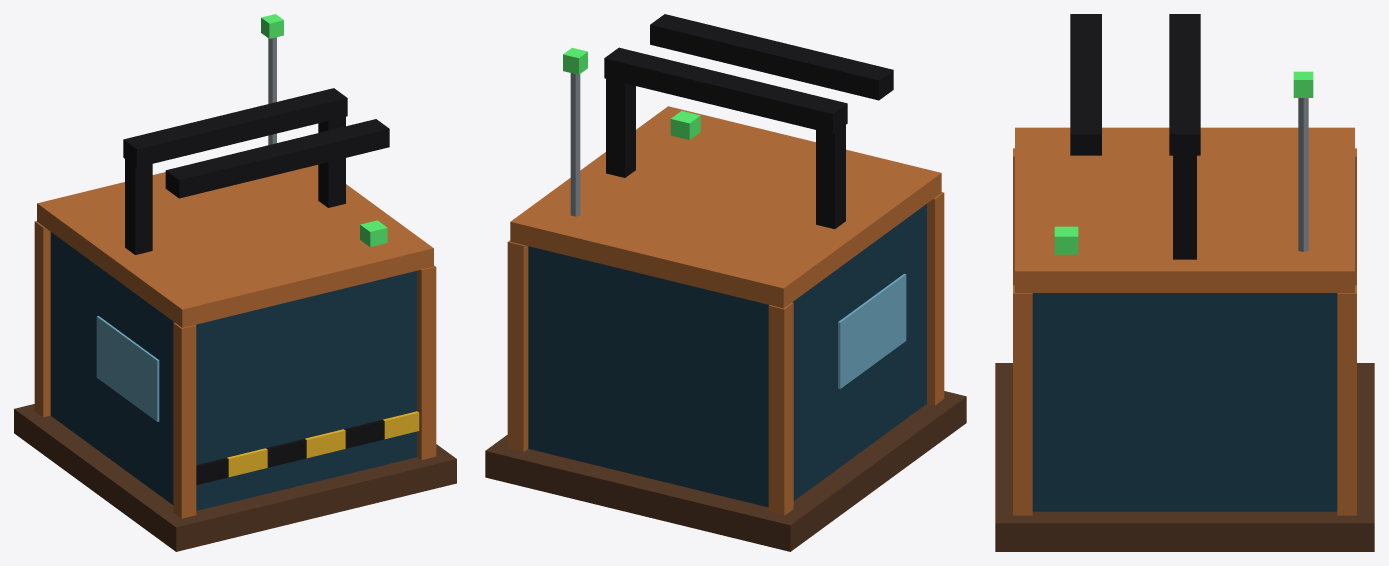
Rendered from assembler_2.obj.
3 renders of one model, left to right at view 1: azimuth 30°, elevation 25°; view 2: azimuth 150°, elevation 25°; view 3: azimuth 270°, elevation 25°, orthographic. The views are drawn at different scales.
Visible parts, largest first — view 1: Body, Lamp; view 2: Body, Lamp; view 3: Body, Lamp.
Boxes of the visible parts, bbox=[...] form: Body: bbox=[14, 37, 456, 551]; Lamp: bbox=[261, 14, 387, 247]; Body: bbox=[485, 14, 966, 551]; Lamp: bbox=[563, 47, 700, 139]; Body: bbox=[995, 14, 1374, 551]; Lamp: bbox=[1054, 71, 1313, 254].
Bounding box in the file's own units: 0.96 × 1.25 × 0.96.
